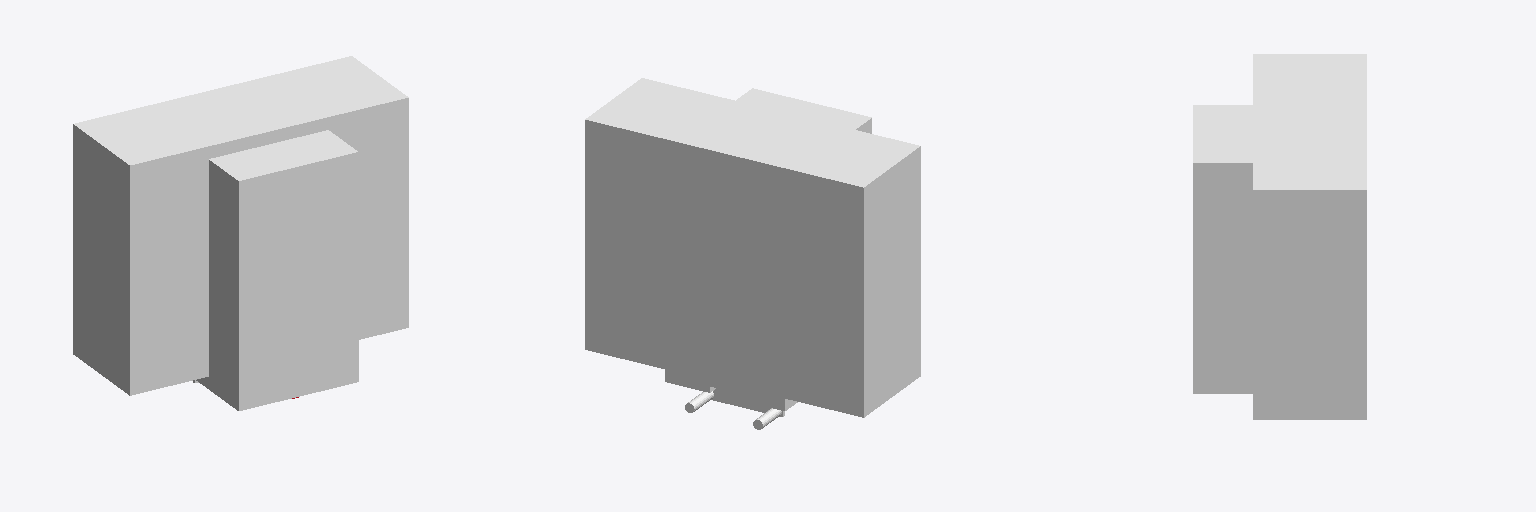
File: tinker.obj
3 views of the same model, side by side, from view 1: azimuth 30°, elevation 25°; view 2: azimuth 150°, elevation 25°; view 3: azimuth 270°, elevation 25° (orthographic).
Visible parts, largest first — view 1: obj_0; view 2: obj_0; view 3: obj_0.
Part boxes in pixels (x1,y1,x2,y2): obj_0: (73, 56, 408, 410); obj_0: (585, 78, 920, 429); obj_0: (1193, 54, 1366, 419).
Size of the model in its own units: 229 by 211 by 124.